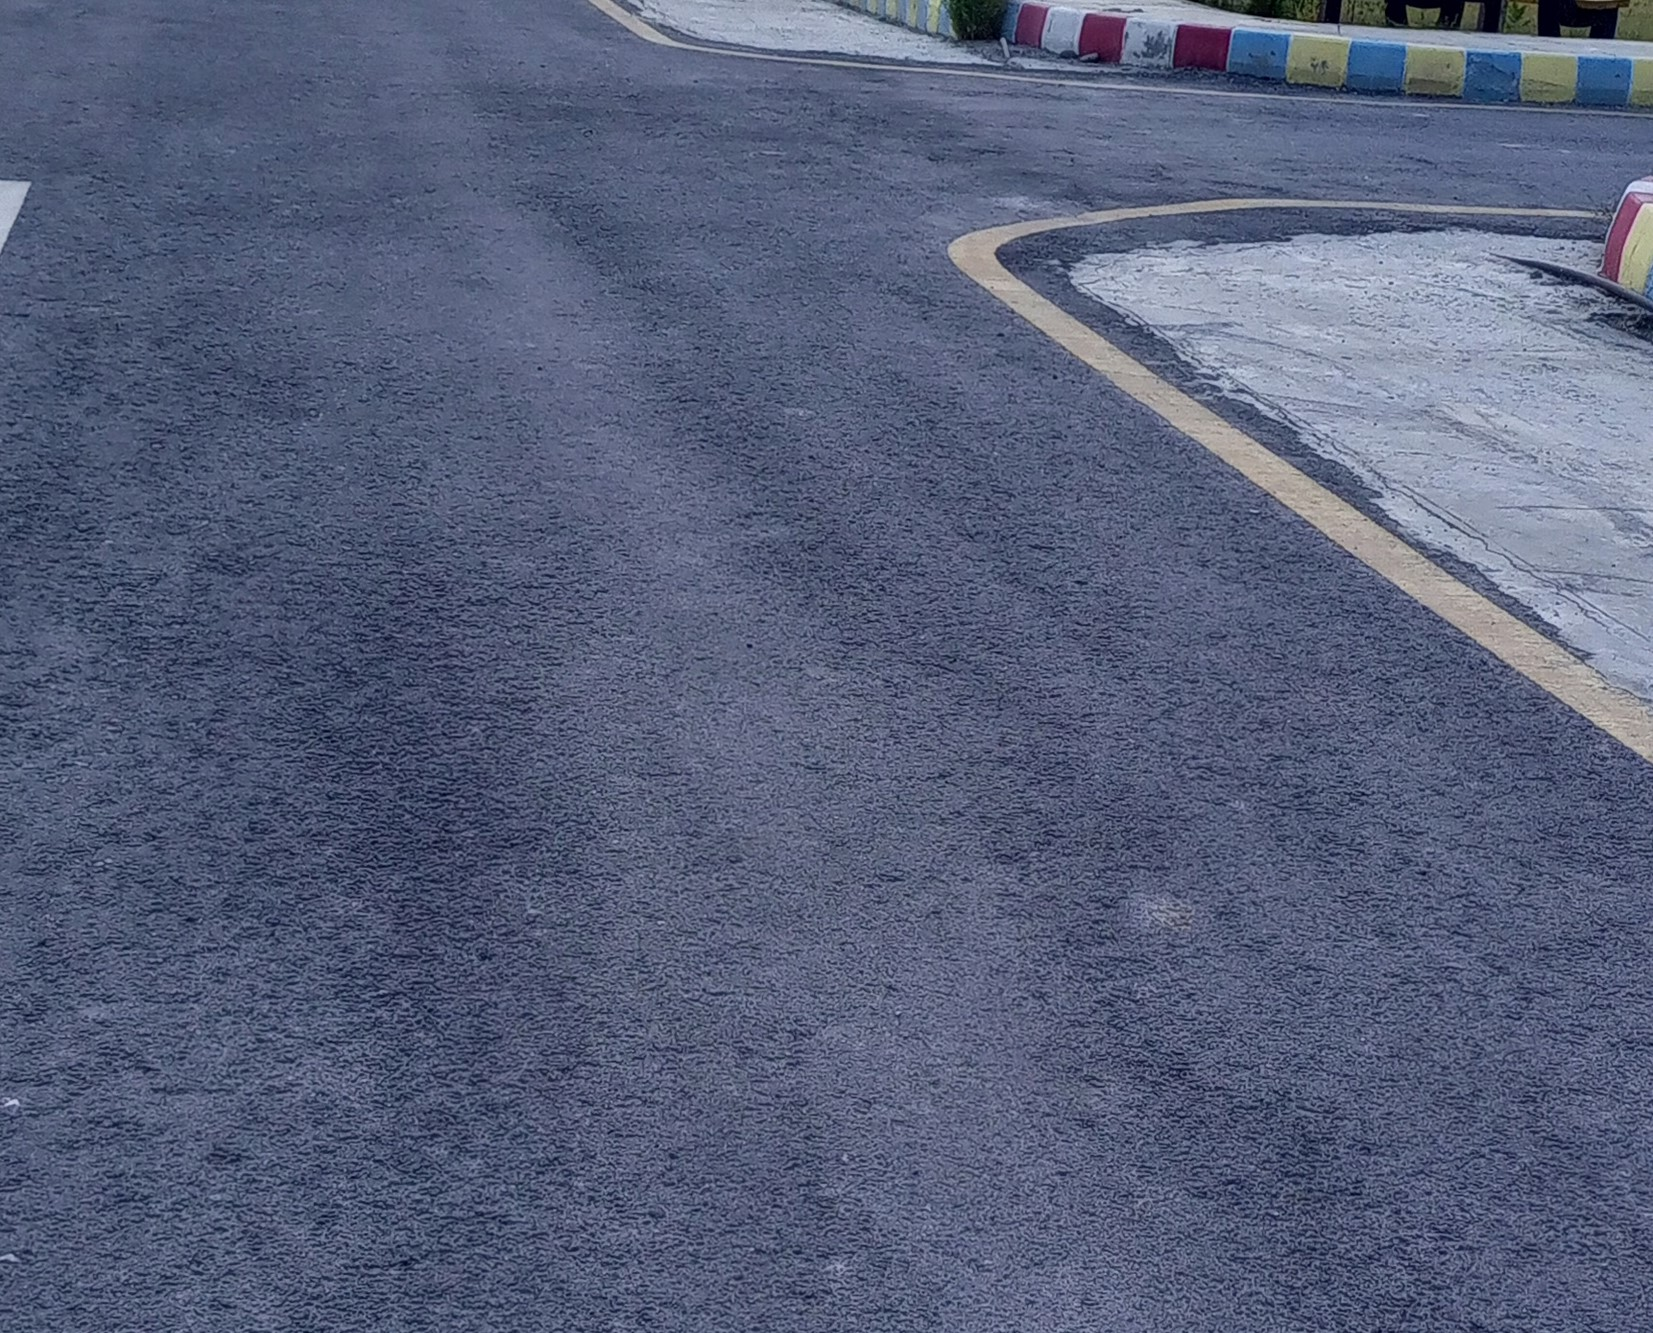rightTrun: (333, 3, 1173, 600)
